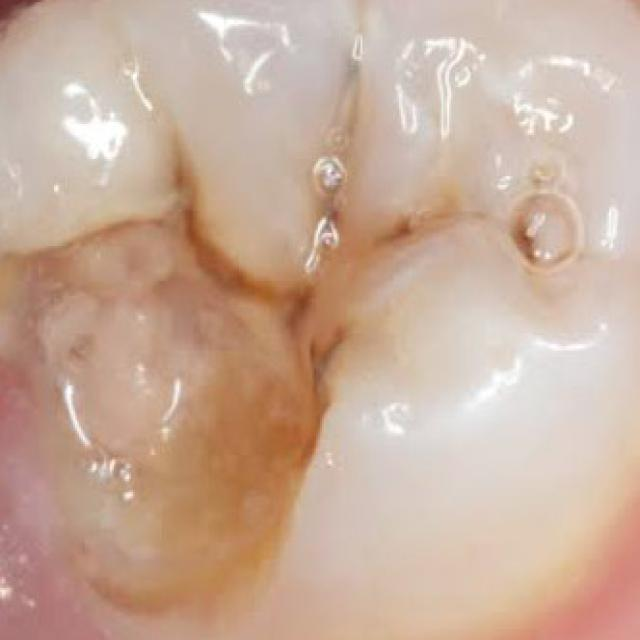Carrier: (199, 386, 296, 534), (74, 543, 274, 611), (288, 321, 357, 476), (0, 248, 91, 355), (163, 140, 224, 278), (247, 271, 322, 331), (361, 205, 448, 252)
